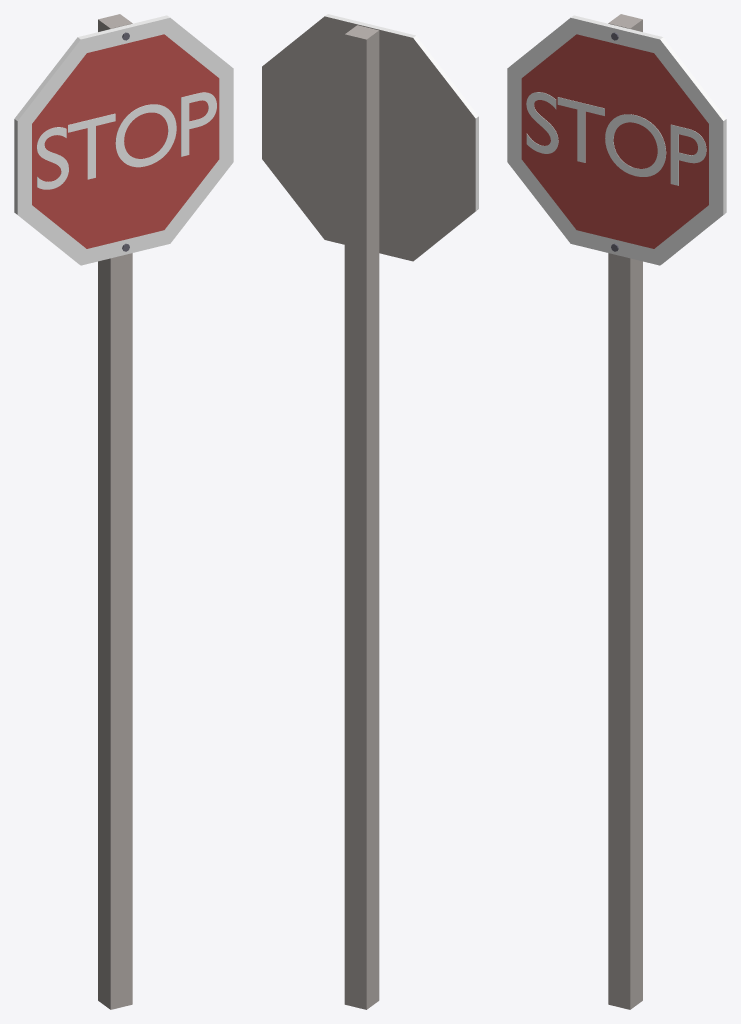
Rendered from stopsign.fbx.
The picture shows the model from 3 angles, left to right: view 1: azimuth 30°, elevation 25°; view 2: azimuth 150°, elevation 25°; view 3: azimuth 330°, elevation 25°; orthographic projection.
Parts seen in each view (by area): view 1: sign, pole, stop; view 2: pole, sign; view 3: sign, pole, stop.
Part boxes in pixels (x1,y1,x2,y2): sign: (14, 15, 233, 265); pole: (98, 14, 132, 1009); stop: (36, 92, 216, 189); pole: (344, 25, 379, 1009); sign: (262, 14, 478, 261); sign: (507, 15, 726, 265); pole: (608, 14, 642, 1009); stop: (526, 92, 706, 185).
Bounding box in the file's own units: 69.29 × 301 × 9.71.
